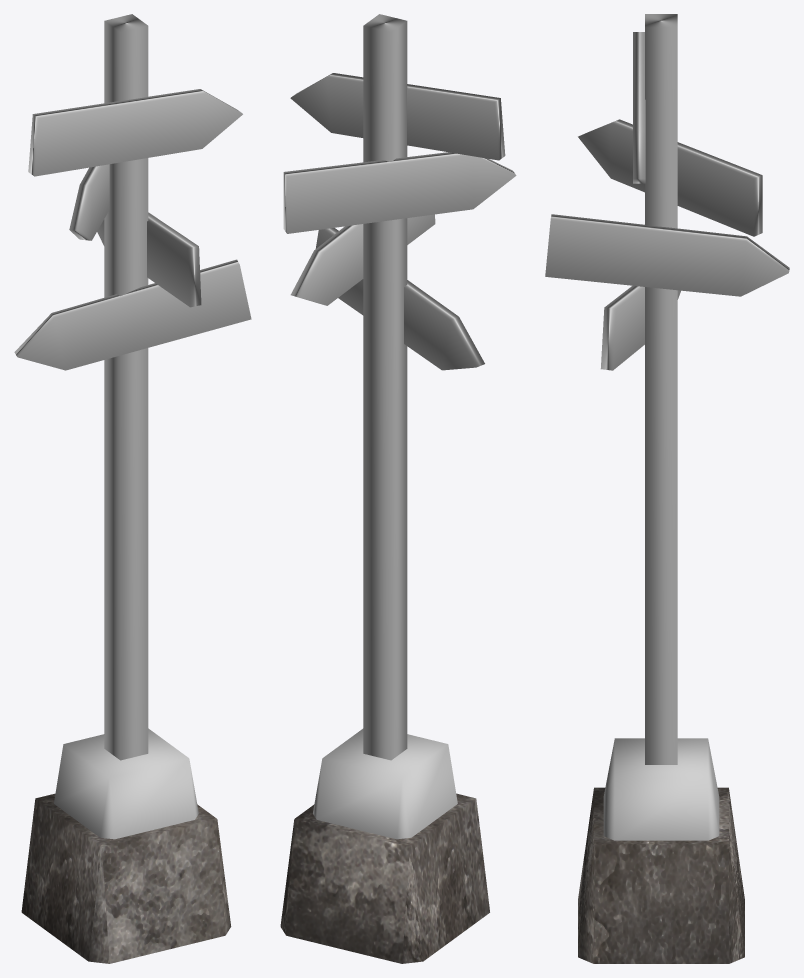
The model's file is SignPost_1.fbx.
3 views of the same model, side by side, from view 1: azimuth 30°, elevation 25°; view 2: azimuth 150°, elevation 25°; view 3: azimuth 270°, elevation 25° (orthographic).
Parts seen in each view (by area): view 1: Mesh; view 2: Mesh; view 3: Mesh.
Boxes of the visible parts, x1,y1,x2,y2 form: Mesh: (14, 14, 251, 963); Mesh: (280, 14, 516, 963); Mesh: (545, 14, 789, 963).
Size of the model in its own units: 108 by 444 by 108.
